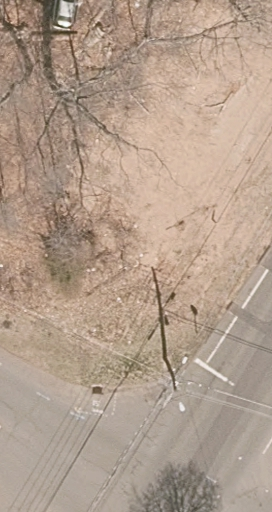DT: (156, 355, 195, 413)
